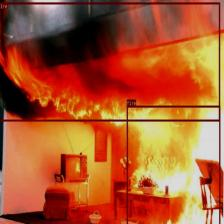fire: (0, 2, 220, 121), (126, 105, 220, 224)
